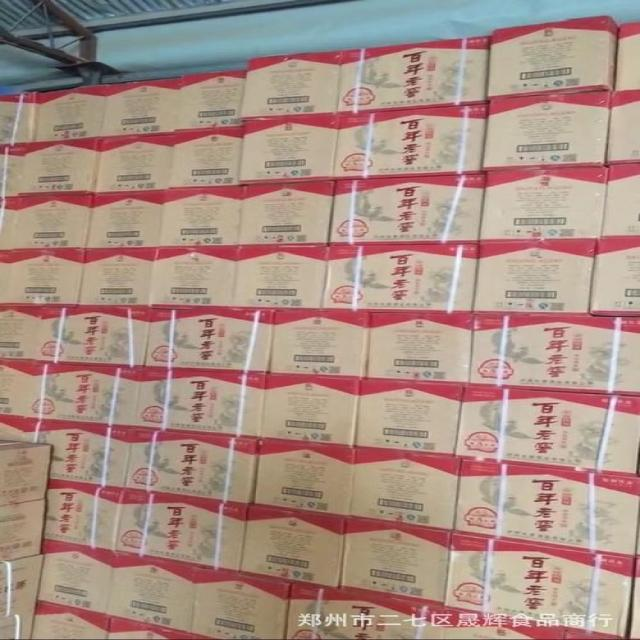box: (440, 531, 632, 640), (453, 459, 640, 560), (454, 384, 640, 477), (468, 312, 640, 396), (337, 35, 492, 114), (335, 103, 489, 180), (329, 172, 485, 245), (115, 488, 250, 572), (321, 243, 481, 312), (488, 15, 620, 98), (339, 515, 452, 609), (338, 516, 452, 608), (123, 427, 260, 503), (483, 91, 611, 170), (0, 359, 146, 428), (477, 168, 609, 242), (471, 238, 596, 315), (348, 446, 461, 531), (285, 580, 445, 640), (238, 504, 347, 592), (133, 367, 268, 438), (0, 415, 132, 487), (0, 305, 152, 365), (143, 307, 276, 374), (355, 379, 466, 456), (365, 310, 474, 385), (253, 438, 356, 516), (104, 551, 198, 633), (192, 564, 293, 639), (237, 112, 340, 185), (260, 373, 360, 447), (269, 307, 370, 379), (241, 50, 344, 120), (237, 180, 335, 245), (230, 243, 329, 307), (32, 539, 115, 614), (0, 138, 100, 199), (44, 478, 123, 551), (148, 245, 241, 307), (157, 184, 246, 248), (0, 195, 95, 251), (97, 77, 182, 137), (92, 132, 174, 194), (0, 248, 86, 305), (166, 128, 244, 189), (84, 190, 166, 248), (172, 69, 247, 131), (78, 247, 156, 306), (32, 84, 108, 143), (589, 236, 640, 317), (442, 608, 563, 640), (0, 439, 52, 507), (0, 499, 46, 562), (33, 602, 110, 639), (603, 163, 640, 238), (106, 616, 220, 639), (1, 556, 42, 619), (607, 90, 640, 165), (0, 92, 37, 145), (614, 22, 640, 91), (0, 609, 35, 639)
